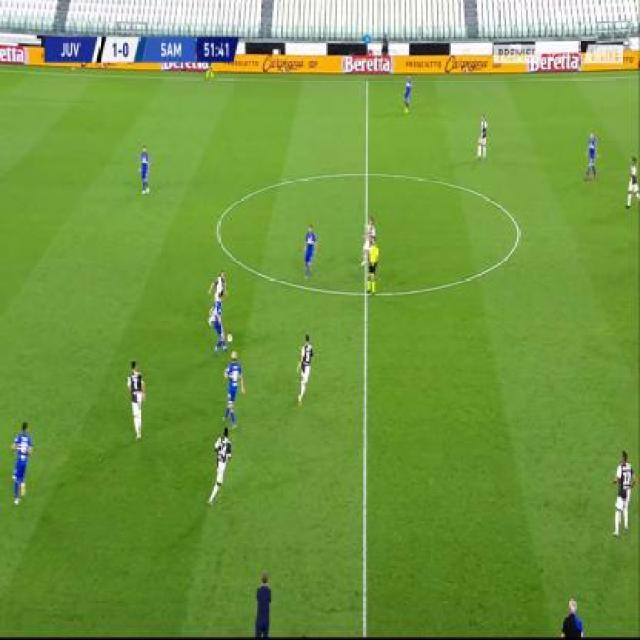ball: (227, 331, 233, 344)
player: (609, 445, 637, 538), (8, 419, 34, 505), (208, 426, 233, 506), (125, 356, 147, 441), (222, 347, 245, 426), (251, 568, 276, 639), (294, 332, 314, 409), (209, 290, 228, 358), (558, 596, 586, 639), (302, 221, 319, 280), (363, 235, 380, 292), (209, 269, 228, 317), (361, 216, 377, 267), (584, 129, 600, 180), (625, 153, 639, 210), (137, 144, 151, 195), (476, 112, 489, 160), (402, 74, 413, 113)
